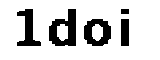1: (14, 8, 44, 50)
d: (49, 8, 79, 49)
i: (118, 6, 132, 49)
o: (83, 16, 113, 50)
